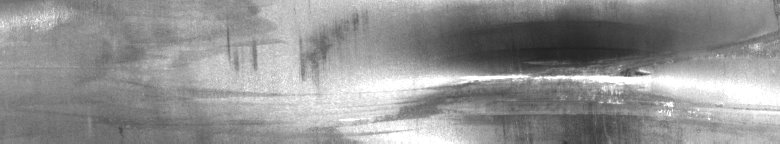ke: (207, 4, 764, 136)
